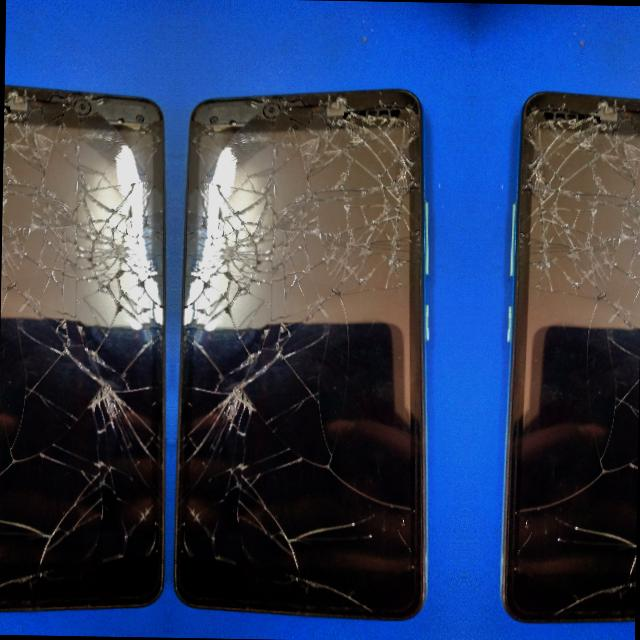phone_screen: (176, 92, 425, 618), (0, 87, 163, 609), (503, 94, 639, 620)
